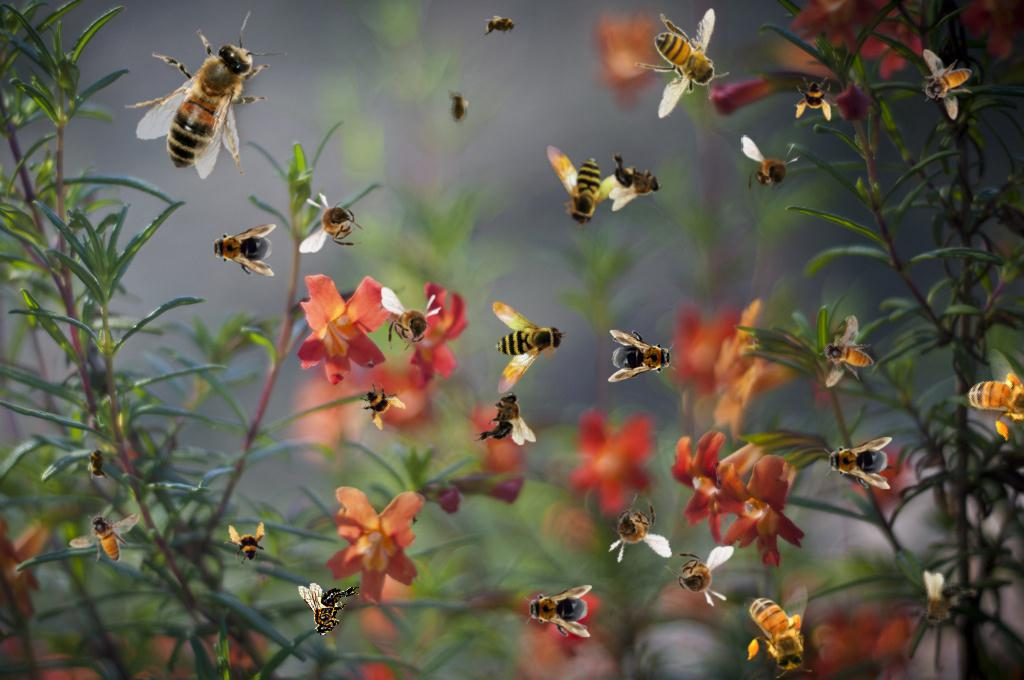Bee: (115, 7, 300, 187), (523, 112, 643, 234), (455, 292, 571, 410), (635, 8, 729, 119), (949, 342, 1024, 457), (803, 313, 889, 400), (596, 488, 673, 572), (744, 585, 812, 678), (906, 566, 983, 638), (299, 192, 369, 253), (664, 546, 734, 607), (381, 287, 442, 357), (741, 135, 802, 205), (349, 371, 413, 435), (69, 512, 140, 562), (922, 49, 972, 120), (524, 585, 592, 637), (824, 437, 892, 489), (208, 224, 276, 276), (608, 330, 676, 382), (474, 392, 536, 445), (298, 583, 360, 636), (609, 149, 662, 211), (221, 518, 273, 570), (794, 77, 838, 121), (481, 15, 521, 37), (447, 88, 469, 128), (87, 443, 109, 483)
